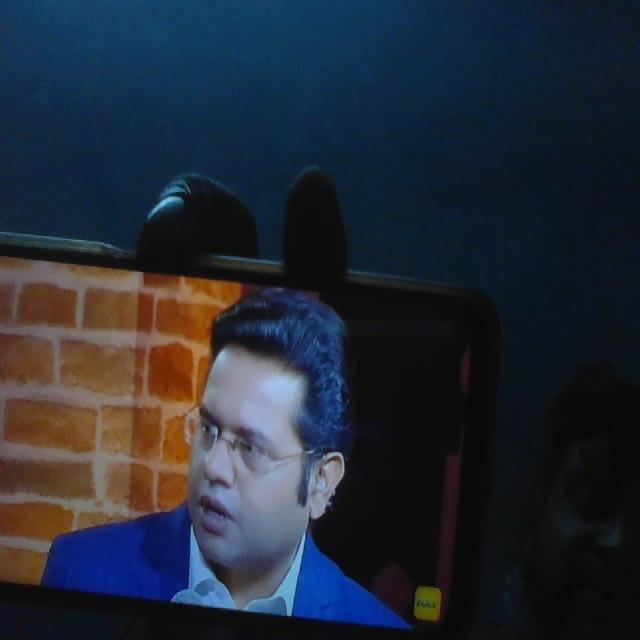fake: (183, 312, 324, 579)
